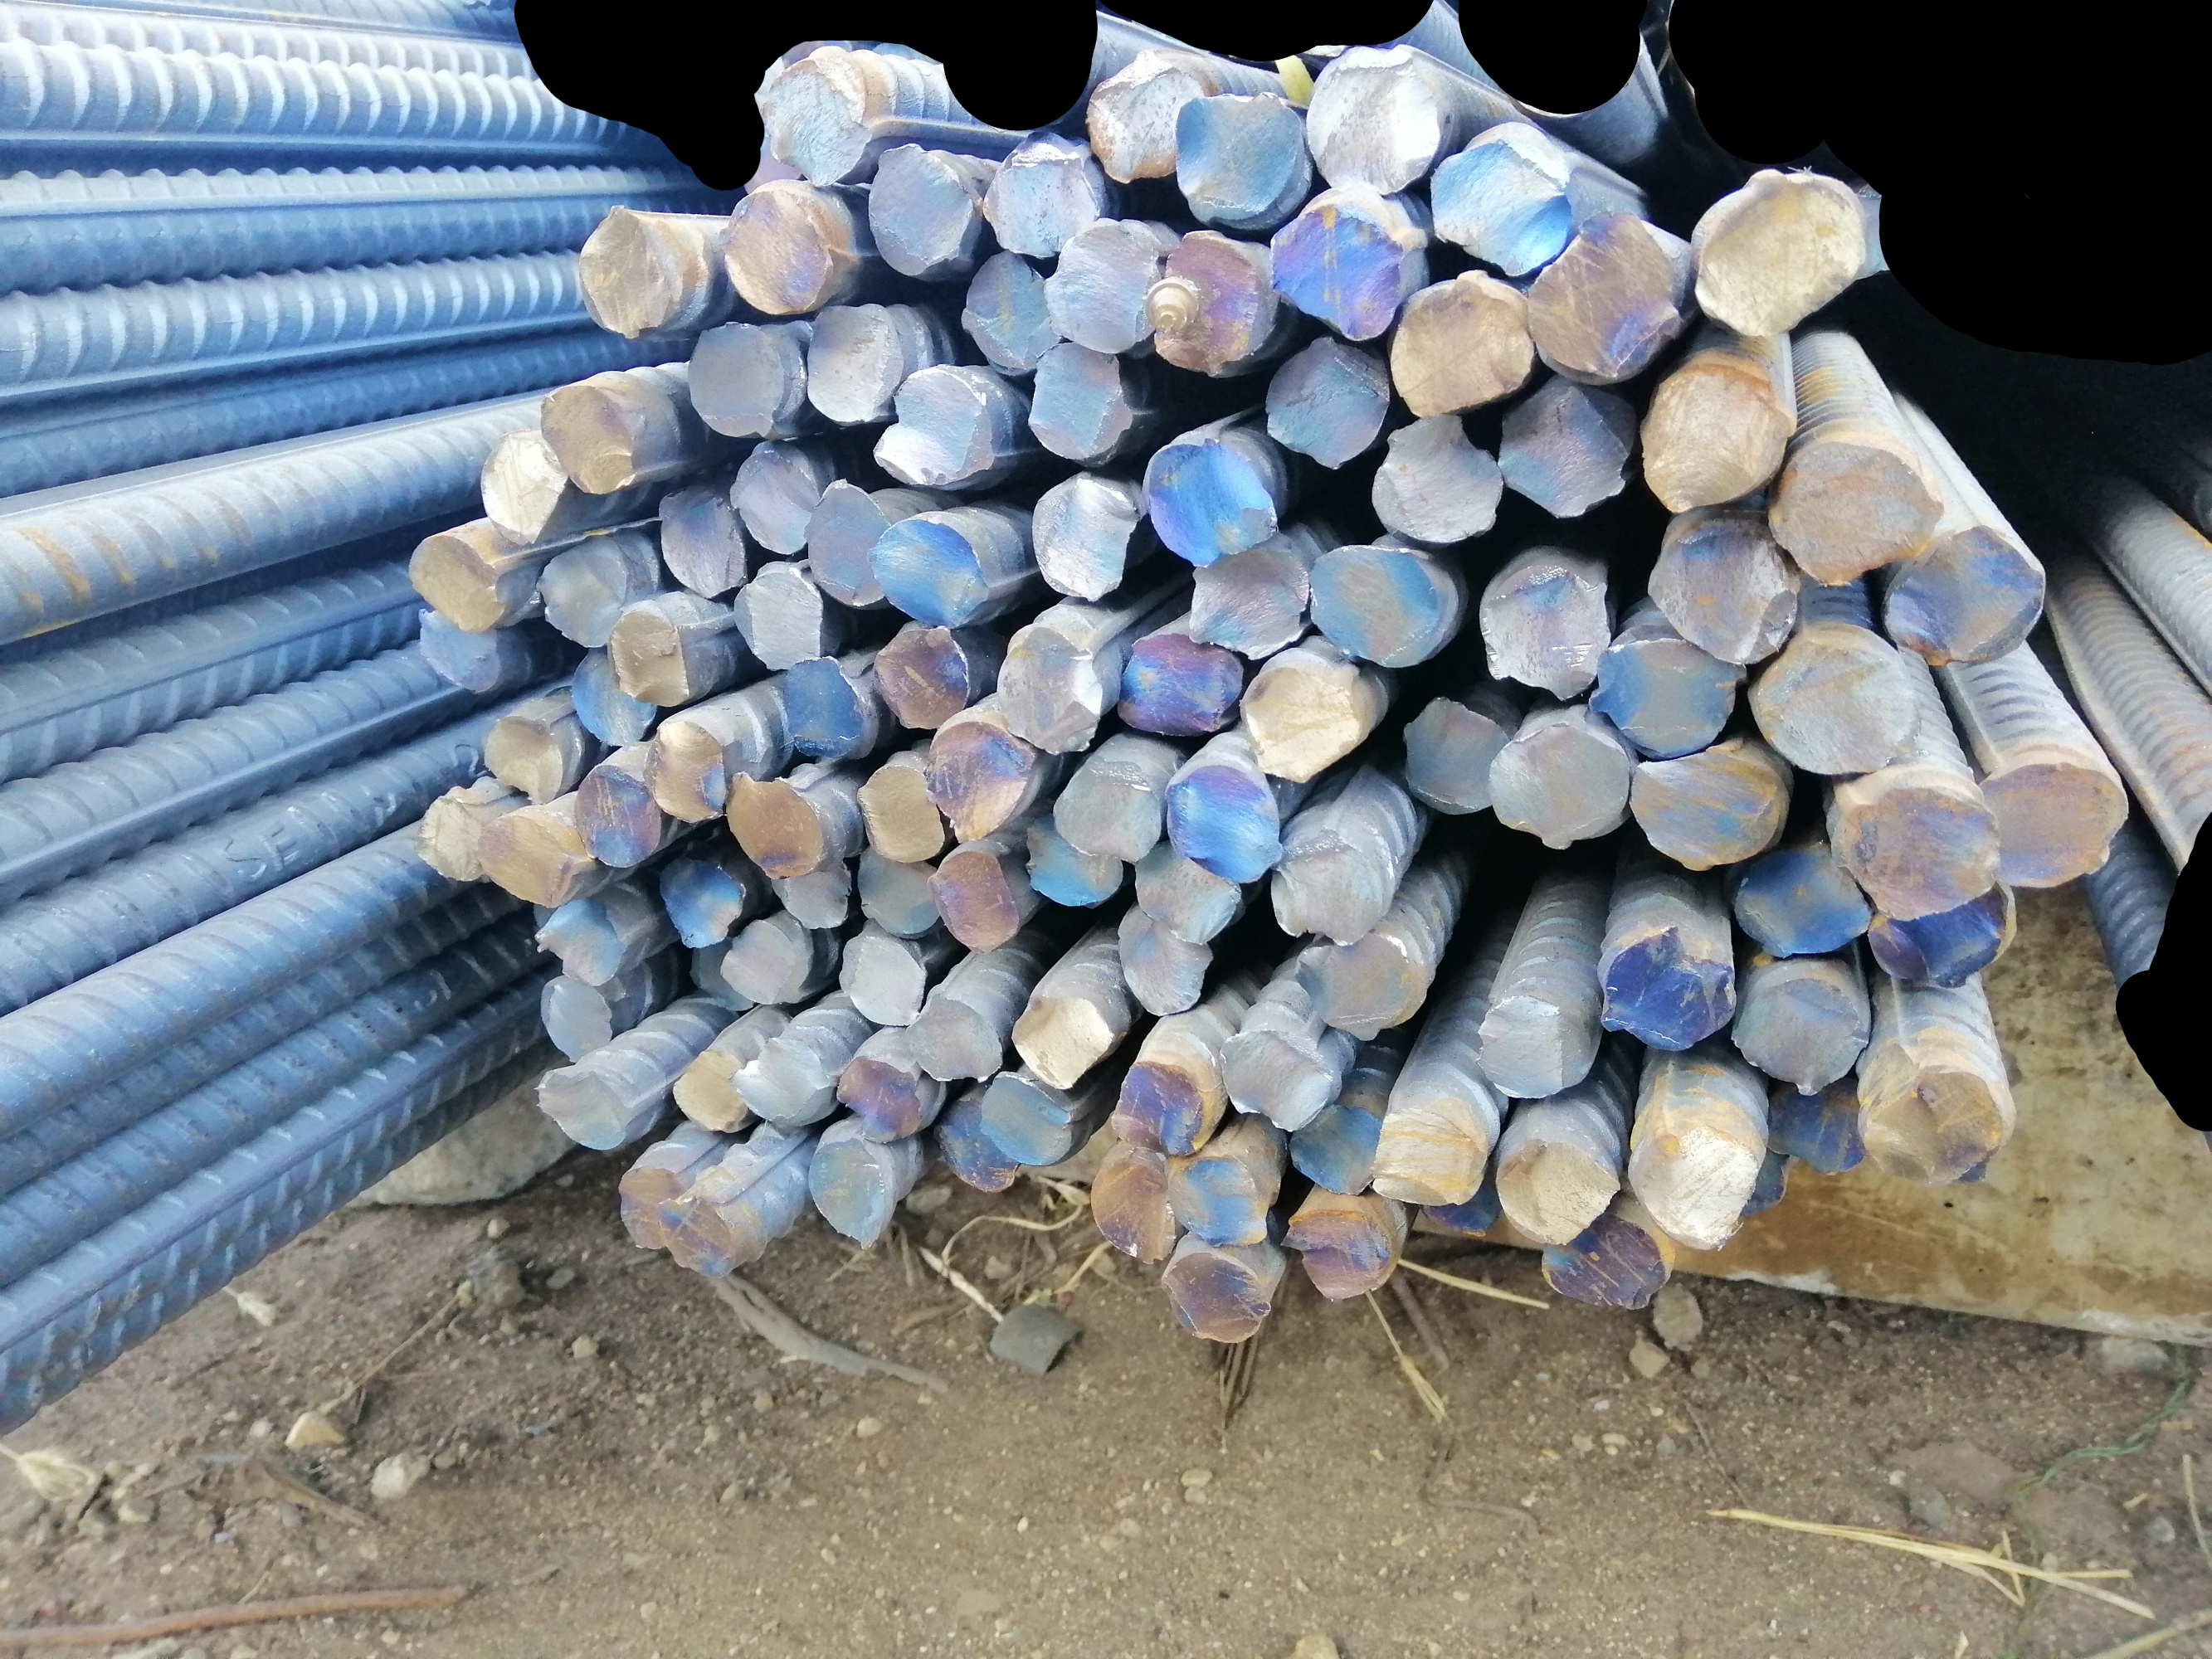rebar: (1693, 162, 1876, 340), (1764, 434, 1944, 589), (1525, 213, 1677, 382), (1884, 523, 2052, 674), (1750, 629, 1921, 775), (1829, 779, 2001, 918), (1640, 366, 1797, 516), (1300, 44, 1447, 197), (1855, 1053, 2010, 1192), (1649, 525, 1802, 664), (1429, 131, 1572, 279), (1271, 188, 1412, 338), (1393, 277, 1541, 418), (1862, 875, 2029, 997), (1982, 755, 2132, 889), (1499, 369, 1630, 523), (1590, 634, 1748, 758), (1140, 427, 1279, 566), (1628, 753, 1788, 873), (1475, 563, 1612, 702), (1625, 1110, 1762, 1248), (1731, 960, 1869, 1096), (1485, 720, 1628, 850), (1154, 232, 1283, 373), (1597, 924, 1740, 1049), (1170, 91, 1302, 223), (1368, 415, 1503, 545), (1264, 335, 1394, 467), (1733, 840, 1872, 962), (1311, 542, 1442, 671), (1239, 659, 1367, 788), (980, 134, 1103, 261), (1089, 44, 1198, 186), (760, 51, 875, 185), (1048, 221, 1163, 356), (1187, 535, 1311, 657), (1157, 763, 1285, 882), (1490, 1131, 1621, 1244), (868, 138, 973, 279), (875, 368, 999, 484), (1271, 826, 1388, 950), (1032, 471, 1142, 601), (999, 620, 1105, 755), (1398, 694, 1515, 816), (1473, 986, 1598, 1100), (572, 202, 675, 340), (866, 516, 992, 627), (723, 190, 833, 317), (927, 714, 1032, 845), (1030, 336, 1137, 464), (1365, 1103, 1490, 1209), (1220, 1019, 1332, 1136), (1537, 1209, 1665, 1310), (1051, 755, 1166, 864), (1121, 634, 1245, 735), (964, 251, 1060, 380), (539, 376, 640, 498), (1297, 936, 1412, 1042), (685, 319, 784, 441), (1283, 1201, 1398, 1305), (1759, 1072, 1869, 1180), (1117, 903, 1217, 1021), (802, 301, 899, 422), (1004, 988, 1114, 1094), (798, 477, 887, 608), (872, 615, 971, 732), (650, 483, 751, 596), (474, 427, 570, 545), (1164, 1243, 1271, 1349), (720, 770, 823, 880), (1130, 843, 1243, 941), (532, 542, 633, 650), (410, 525, 504, 640), (1088, 1147, 1178, 1265), (1112, 1054, 1211, 1162), (1164, 1145, 1265, 1248), (807, 1131, 891, 1255), (924, 1093, 1023, 1195), (572, 760, 664, 870), (974, 1070, 1072, 1173), (727, 444, 819, 552), (535, 1056, 633, 1157), (467, 812, 570, 908), (927, 847, 1020, 953), (605, 605, 695, 713), (901, 992, 1004, 1086), (725, 1033, 830, 1126), (734, 563, 824, 669), (1290, 1098, 1384, 1199), (1023, 814, 1123, 908), (833, 934, 927, 1032), (854, 765, 945, 864), (645, 714, 727, 824), (854, 838, 941, 941), (479, 702, 568, 802), (720, 913, 812, 1007), (567, 650, 657, 746), (784, 648, 861, 762), (532, 896, 626, 985), (828, 1053, 920, 1141), (657, 856, 746, 948), (411, 608, 506, 695), (652, 1190, 737, 1286), (664, 1047, 751, 1136), (533, 967, 612, 1063), (410, 791, 488, 885), (760, 856, 854, 934), (619, 1157, 687, 1255), (678, 938, 751, 1014)
